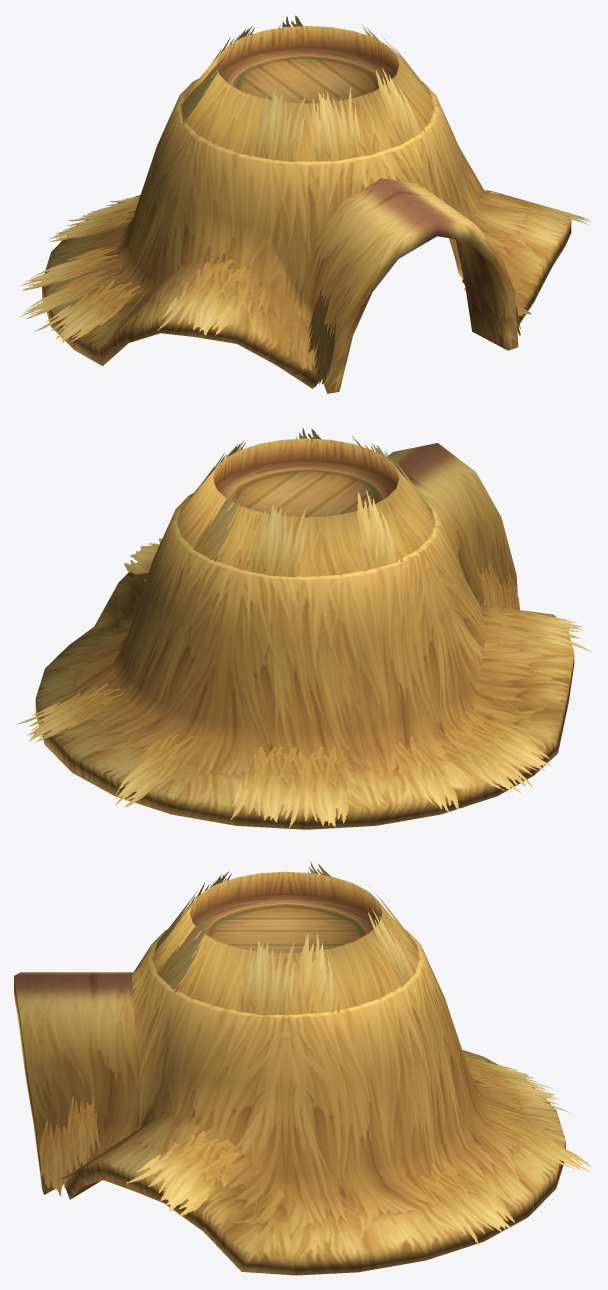
The model's file is map_1002_caowu_02_b.FBX.
The picture shows the model from 3 angles, top to bottom: view 1: azimuth 30°, elevation 25°; view 2: azimuth 150°, elevation 25°; view 3: azimuth 270°, elevation 25°; orthographic projection. The views are drawn at different scales.
Visible parts, largest first — view 1: map_1002_caowu_02_b; view 2: map_1002_caowu_02_b; view 3: map_1002_caowu_02_b.
Part boxes in pixels (x1,y1,x2,y2): map_1002_caowu_02_b: [20, 15, 590, 393]; map_1002_caowu_02_b: [17, 428, 591, 829]; map_1002_caowu_02_b: [14, 862, 591, 1275].
Bounding box in the file's own units: 7.98 × 3.89 × 7.77.
